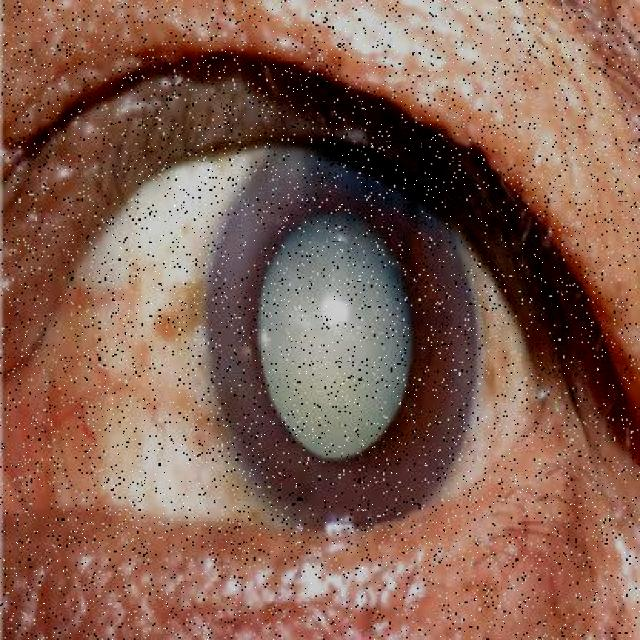Cataract: (208, 138, 460, 491)
